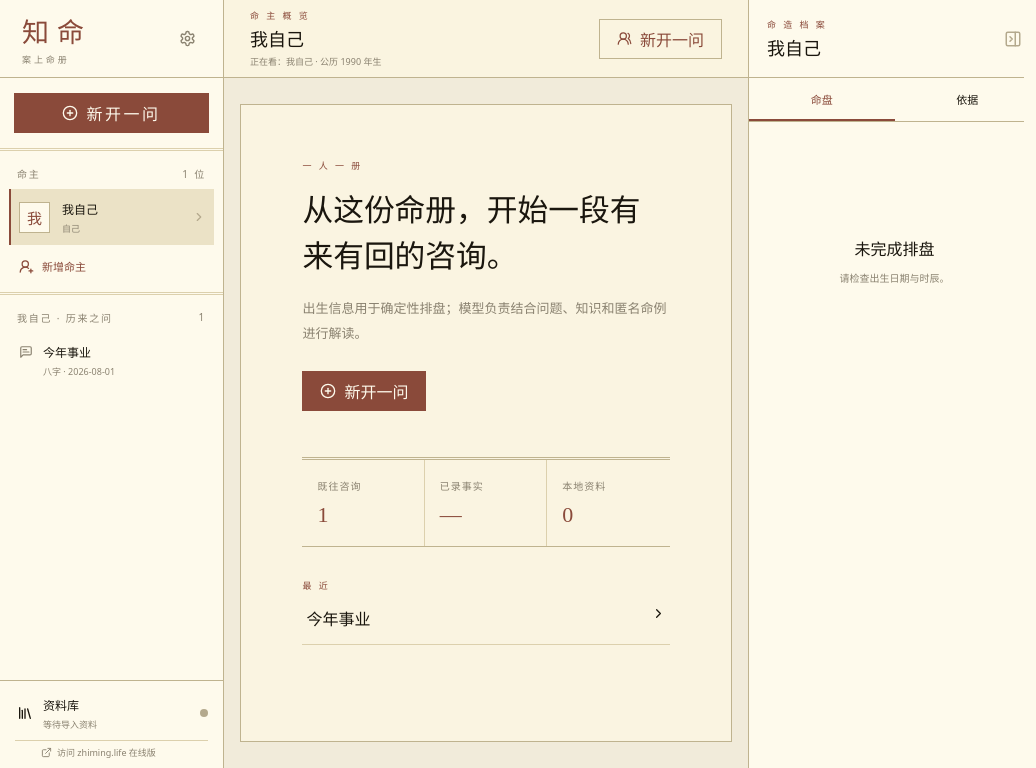
Test: App › sends a message in an existing consultation
The image size is (1036, 768).
Click the button "今年事业 八字 · 2026-08-01" at [112, 360], box x1=9 y1=333 x2=214 y2=388
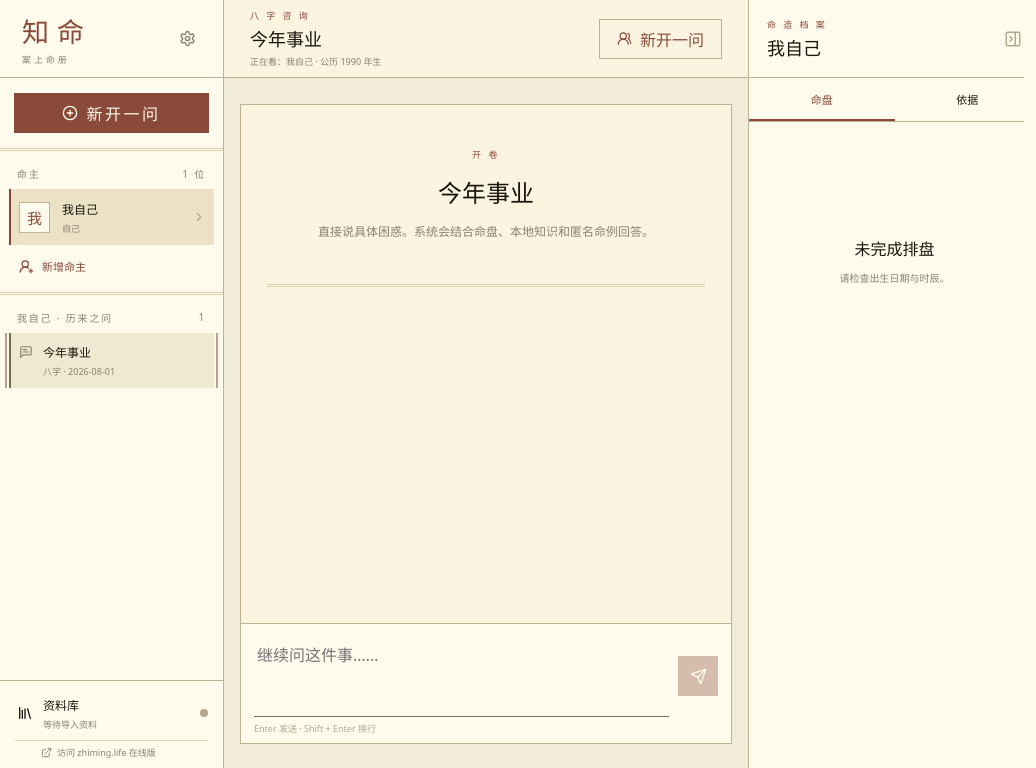
Type "今年事业如何？" into the text box with placeholder "继续问这件事……" at [462, 676], box x1=254 y1=635 x2=669 y2=717
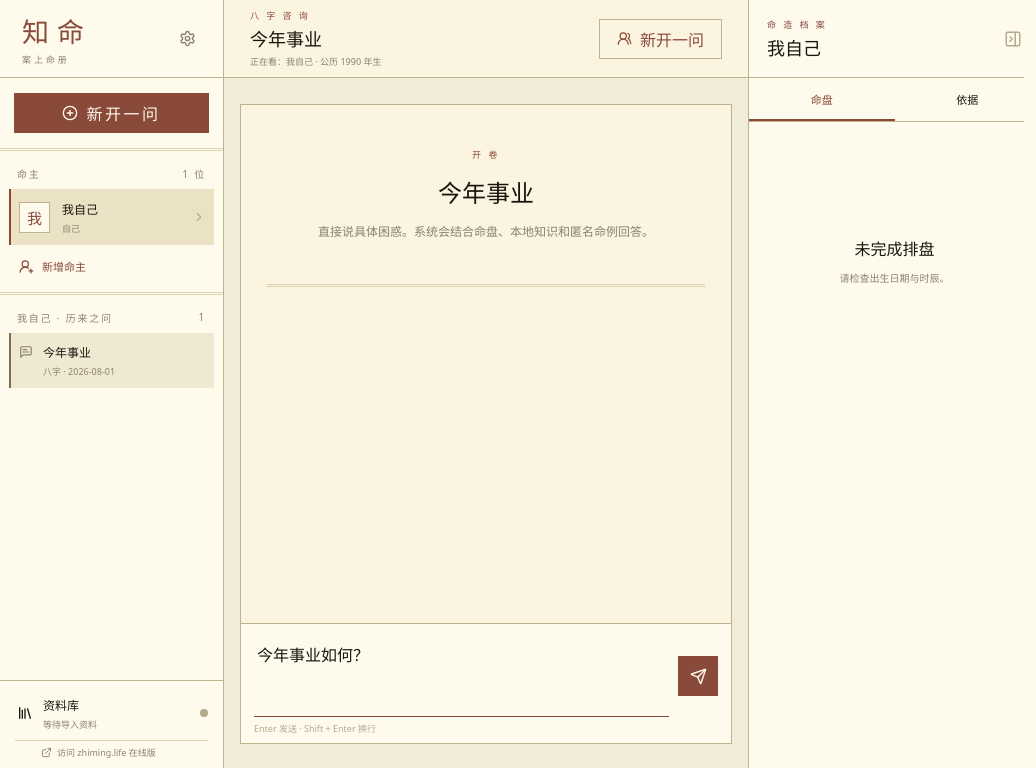
Click the button named "发送" at [698, 676], box x1=678 y1=656 x2=718 y2=696
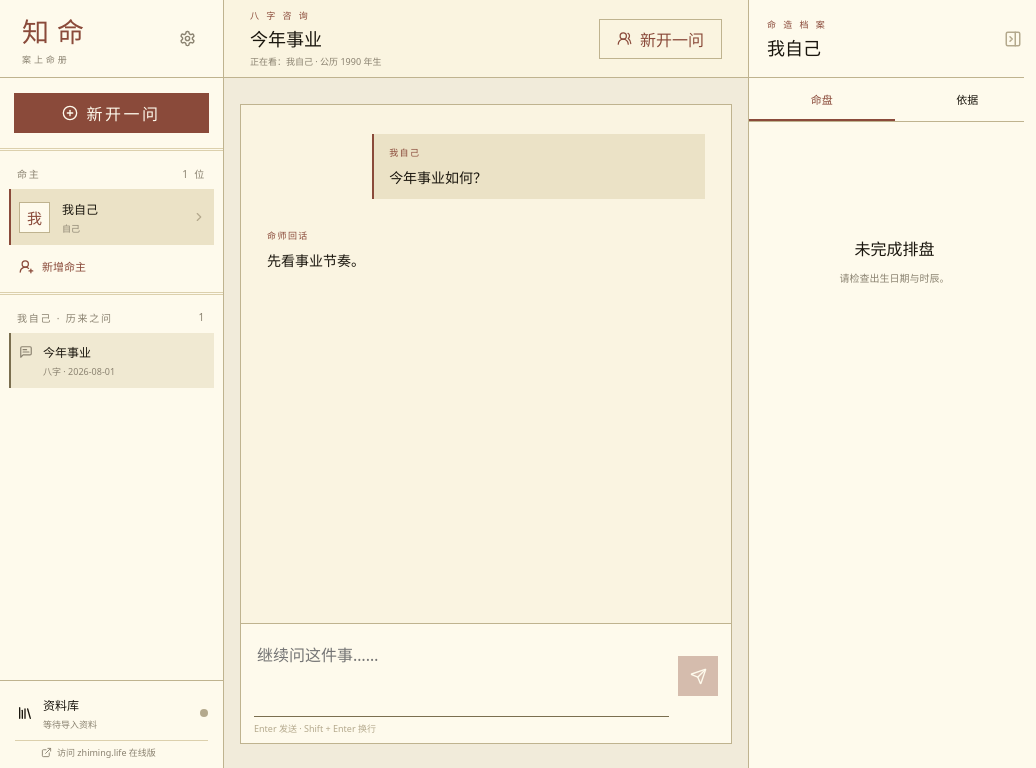
Now the text "先看事业节奏。" is shown, box x1=267 y1=254 x2=365 y2=269
